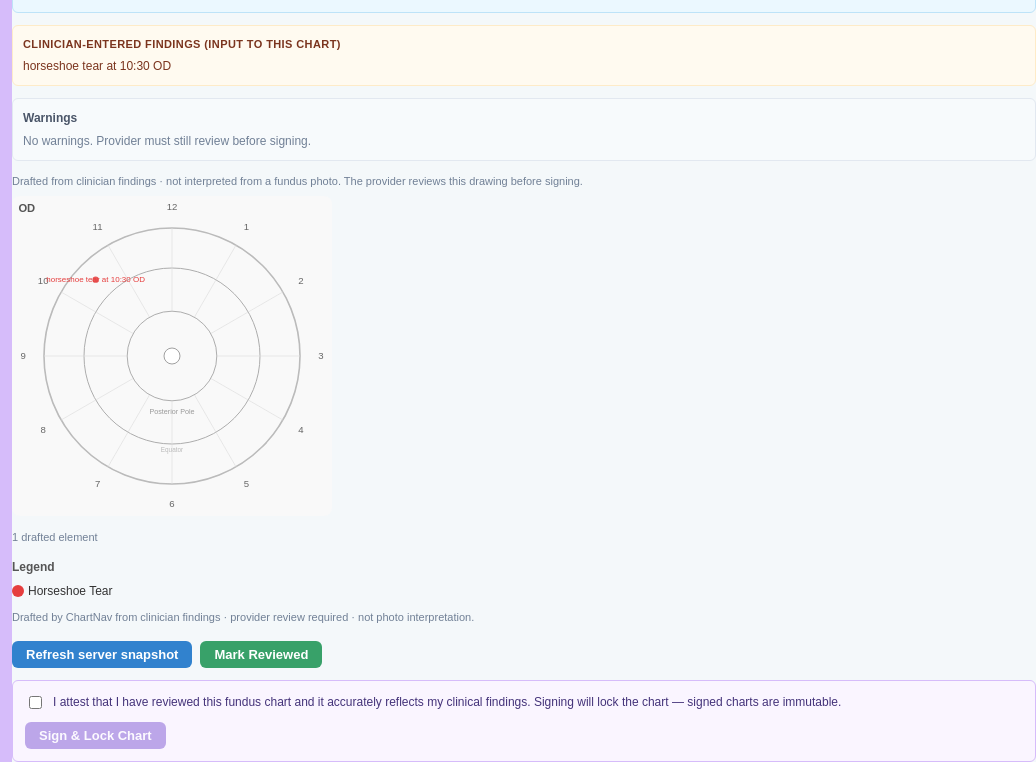
Scenario: FundusChartEditor › sign button is disabled until the attestation checkbox is ticked
(page scrolled)
Check: the button with test id "fundus-sign-btn" is disabled, box left=25, top=722, right=166, bottom=749
Click the checkbox with test id "fundus-attestation-checkbox": (36, 703) left=29, top=696, right=42, bottom=709
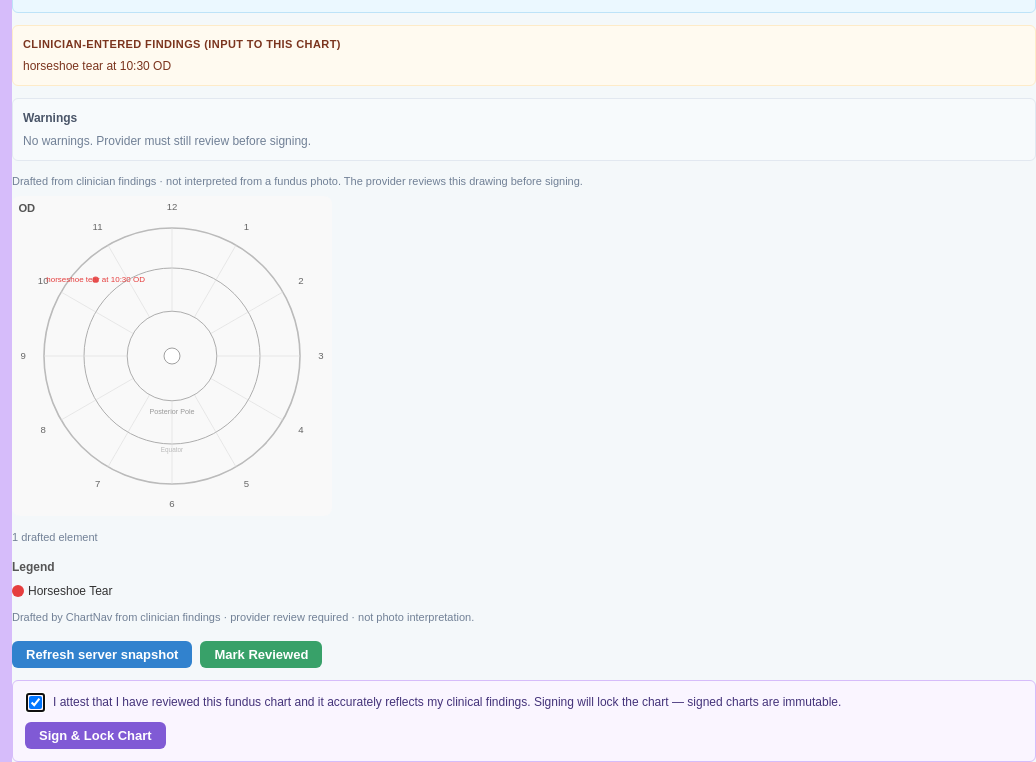
Check: the button with test id "fundus-sign-btn" is enabled, box left=25, top=722, right=166, bottom=749
